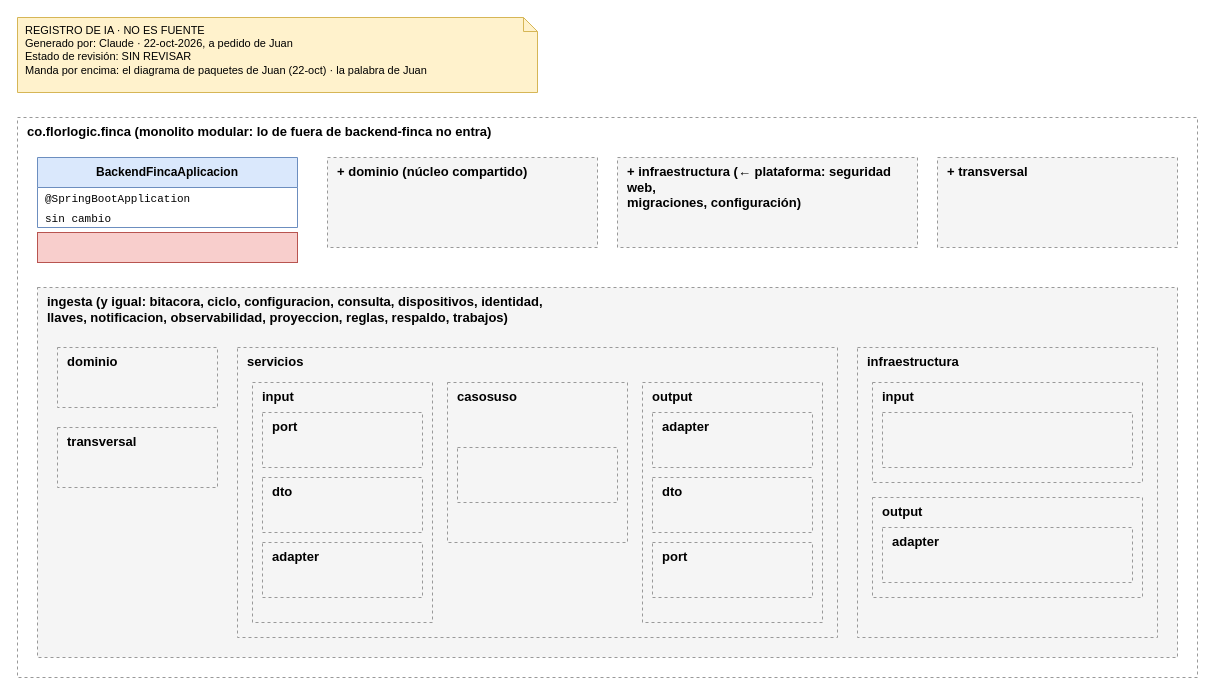
The diagram is 1215 pixels wide and 695 high, and some of its shapes have lost their labels. Each missing label, with the centre of its shape:
"- plataforma (se funde en la raíz)" belongs at (x=167, y=247).
"controlador" belongs at (x=1007, y=440).
"impl" belongs at (x=537, y=474).
